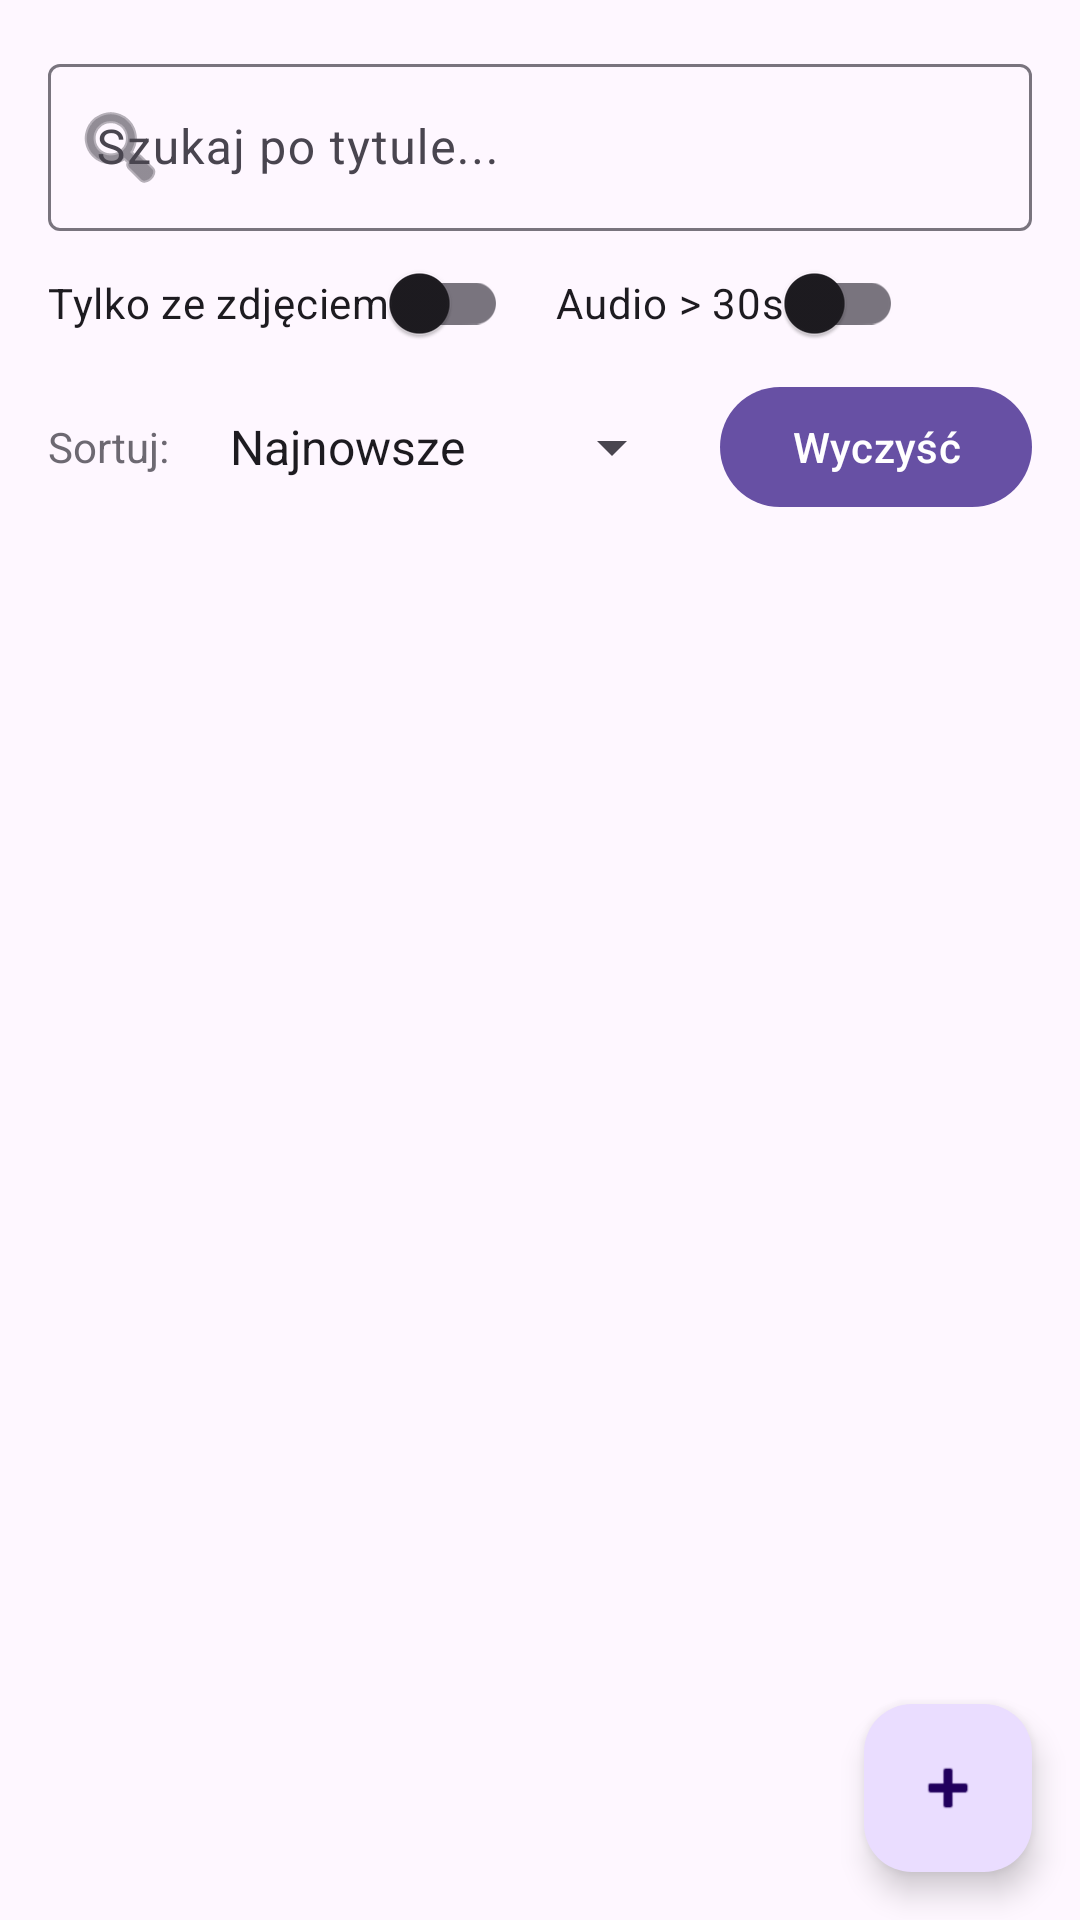

Icons on this 1080w x 1920h Android screen, each with the point to tap as (x,y):
Dodaj notatkę: (948,1788)
